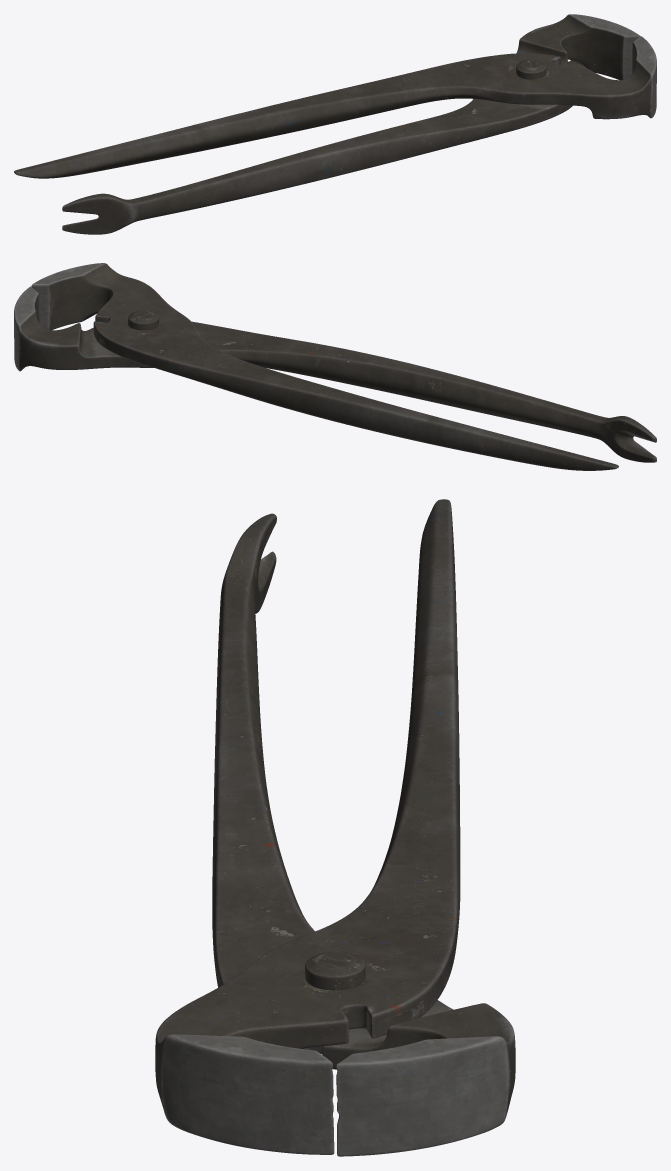
File: tool_pliers_a01.glb
3 renders of one model, top to bottom at view 1: azimuth 30°, elevation 25°; view 2: azimuth 150°, elevation 25°; view 3: azimuth 270°, elevation 25°, orthographic. The views are drawn at different scales.
Parts seen in each view (by area): view 1: body_01_mesh_00; view 2: body_01_mesh_00; view 3: body_01_mesh_00.
Boxes of the visible parts, <box> form: body_01_mesh_00: <box>14,14,656,234</box>; body_01_mesh_00: <box>14,263,656,470</box>; body_01_mesh_00: <box>155,499,515,1156</box>.
Size of the model in its own units: 0.1924 by 0.0146 by 0.0501.
1 material, 1 textured.
